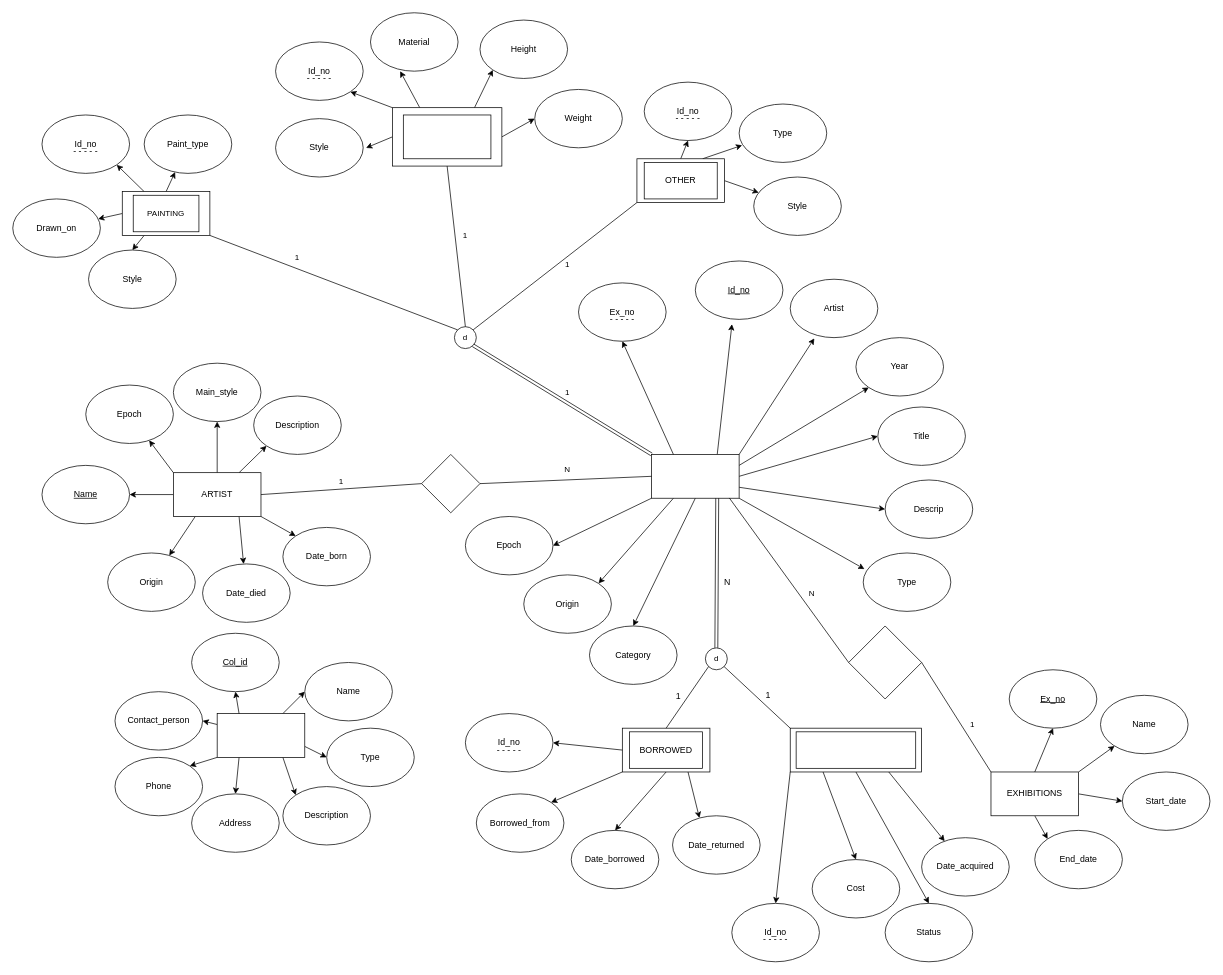
Some shapes in this 1223 by 975 pixel diagram are drawn without their labels. Here are the shapes that lost their labels. From the top down, the centre of each, then its label:
At point 447,136: "SCULPTURE_STATUE".
At point 450,483: "CREATED BY".
At point 695,476: "ART_OBJECT".
At point 885,662: "DISPLAYED IN".
At point 260,735: "COLLECTIONS".
At point 855,749: "PERMANENT_COLLECTION".
